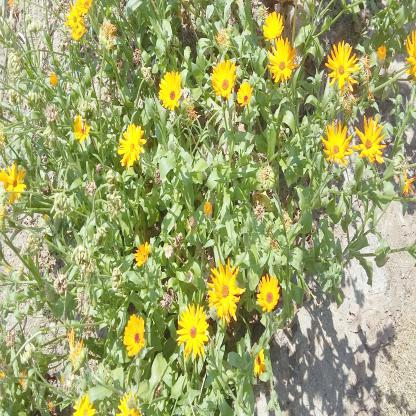marigold: (206, 258, 245, 324), (174, 301, 209, 361), (325, 40, 360, 98), (354, 114, 385, 168), (266, 36, 300, 83), (320, 120, 353, 166), (117, 121, 145, 169), (122, 312, 146, 358), (158, 69, 183, 112), (254, 272, 280, 313), (211, 59, 236, 101), (4, 162, 26, 204), (249, 340, 267, 382), (262, 10, 284, 42), (72, 112, 92, 142), (66, 0, 84, 31), (72, 392, 96, 415), (235, 81, 253, 110), (134, 241, 151, 267), (71, 21, 87, 40), (75, 0, 93, 16)
